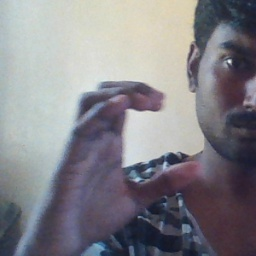C: (71, 79, 202, 204)
